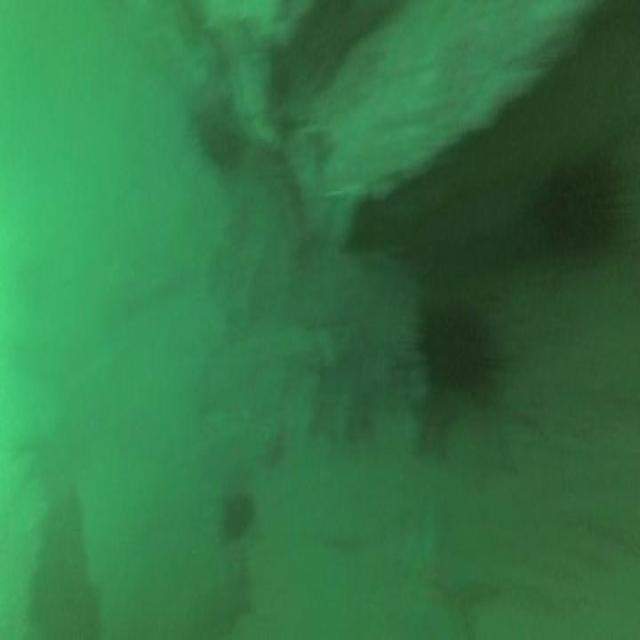echinus: (526, 147, 636, 278), (417, 289, 499, 408)
starfish: (385, 504, 499, 640)
